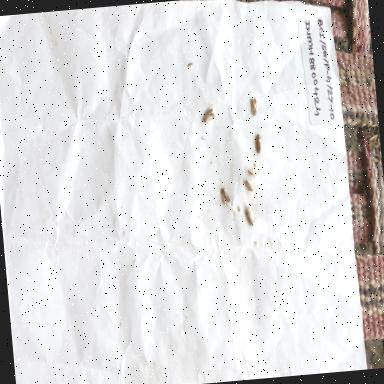pbw: (242, 201, 258, 229), (201, 105, 218, 127), (248, 92, 260, 118), (220, 183, 232, 208), (242, 174, 255, 196), (254, 132, 265, 156), (247, 166, 260, 178)
